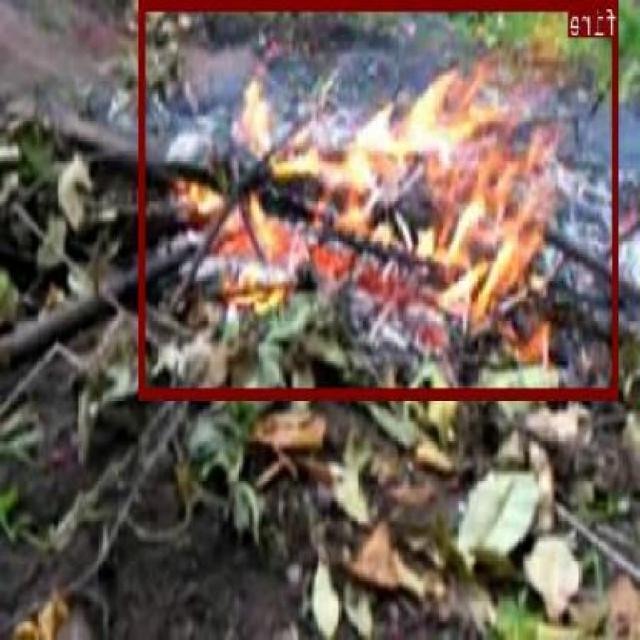Fire: (140, 0, 618, 397)
